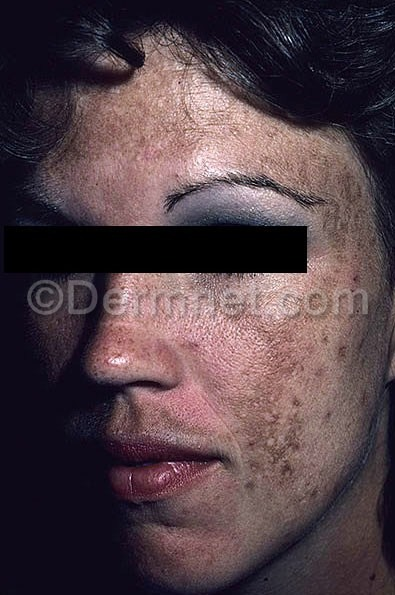Melasma: (201, 322, 332, 501), (78, 111, 357, 180), (151, 511, 252, 574), (321, 157, 373, 271), (89, 327, 179, 367)
